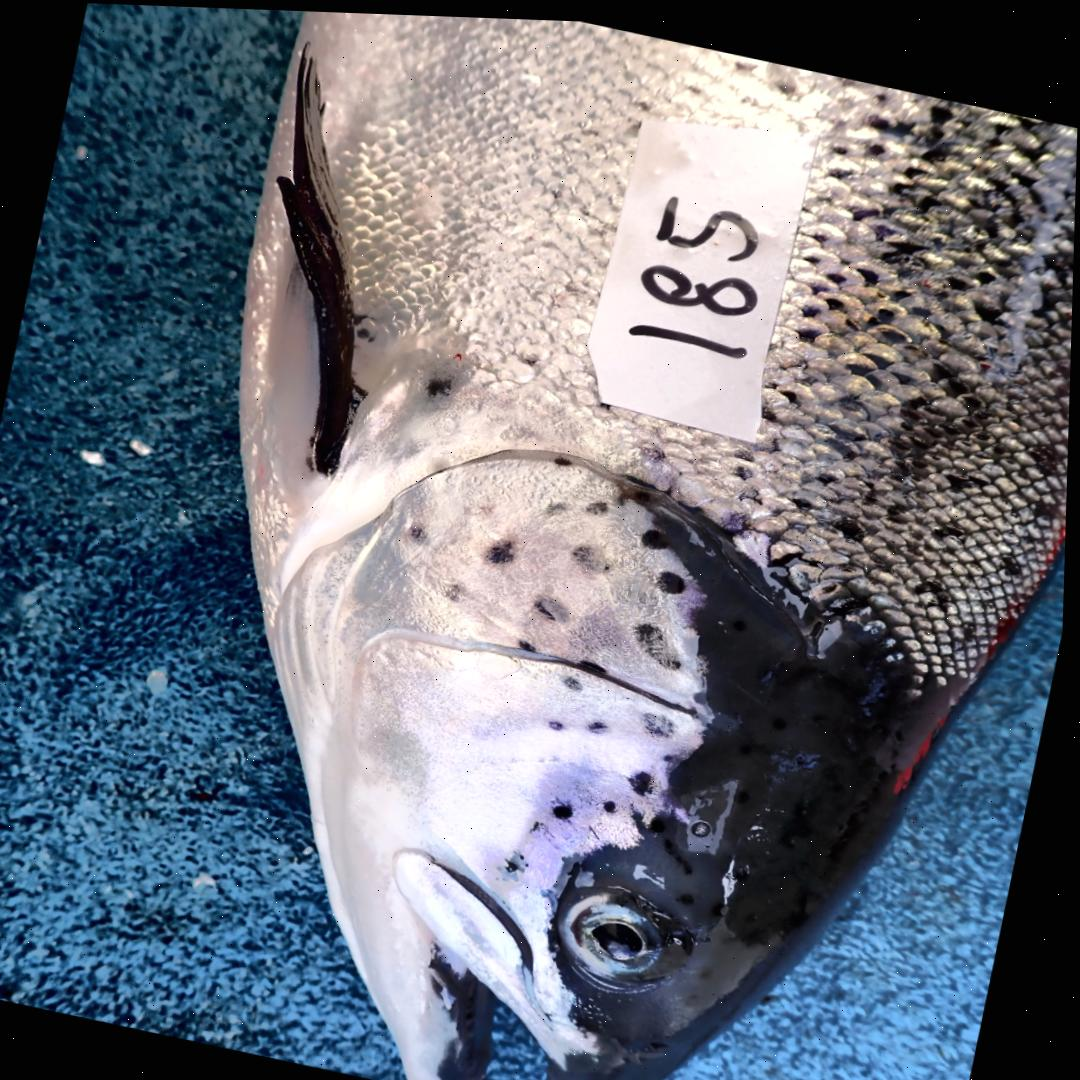spot: (636, 616, 685, 664), (579, 539, 614, 569), (537, 591, 572, 617), (647, 706, 679, 732), (489, 534, 518, 559), (632, 764, 658, 789), (663, 565, 689, 587), (644, 523, 671, 544), (412, 522, 434, 541), (449, 579, 471, 597), (580, 654, 610, 667), (557, 798, 578, 814), (550, 497, 574, 511), (590, 496, 613, 510), (566, 670, 587, 685), (521, 633, 542, 646), (590, 716, 612, 728), (557, 450, 576, 461), (606, 795, 621, 807), (637, 485, 652, 496), (551, 714, 567, 724)
